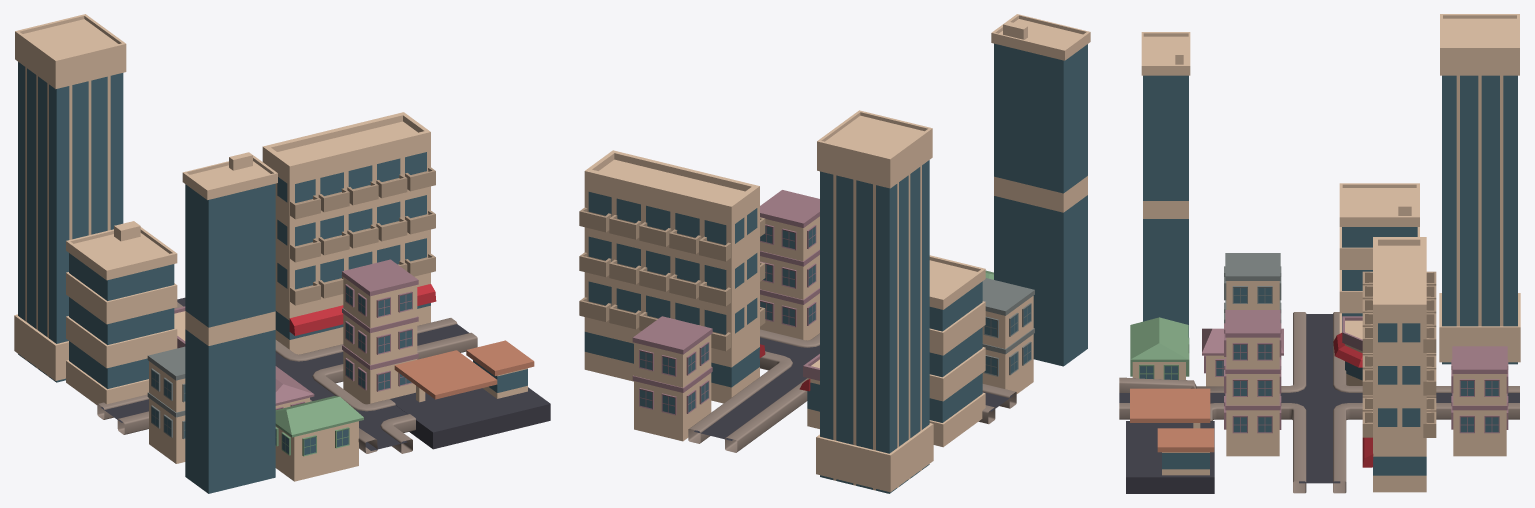
Rendered from city block.glb.
3 views of the same model, side by side, from view 1: azimuth 30°, elevation 25°; view 2: azimuth 150°, elevation 25°; view 3: azimuth 270°, elevation 25° (orthographic). The views are drawn at different scales.
Parts seen in each view (by area): view 1: tall building.002, tall building.003, tall building.001, house.007, road, flat roof.008, house.004, house.019, apartment, house.008, gas station, Cube.009 (+13 smaller); view 2: tall building.003, tall building.002, house.007, tall building.001, road, house.004, house.019, apartment, bldg base, house.005, Cube.010, Cube.008 (+13 smaller); view 3: tall building.003, tall building.002, road, tall building.001, house.007, flat roof.008, apartment, gas station, conv store, house.004, 1 story.001, bldg base (+26 smaller).
Part boxes in pixels (x1,y1,x2,y2): tall building.002: (182,152,277,493); tall building.003: (15,14,126,382); tall building.001: (66,221,177,410); house.007: (262,112,430,221); road: (97,297,477,453); flat roof.008: (390,387,550,449); house.004: (275,186,430,264); house.019: (275,230,430,307); apartment: (275,273,436,354); house.008: (275,421,358,481); gas station: (394,350,497,399); Cube.009: (290,167,435,219); tall building.003: (817,110,932,493); tall building.002: (991,14,1090,366); house.007: (584,150,759,263); tall building.001: (929,255,985,447); road: (688,329,1016,452); house.004: (584,228,759,309); house.019: (584,273,759,353); apartment: (584,318,765,403); bldg base: (816,423,933,492); house.005: (634,373,711,441); Cube.010: (579,207,730,261); Cube.008: (579,252,730,306); tall building.003: (1440,14,1519,364); tall building.002: (1141,32,1190,337); road: (1119,312,1519,493); tall building.001: (1339,183,1419,333); house.007: (1373,237,1426,359); flat roof.008: (1126,421,1214,493); apartment: (1362,437,1426,492); gas station: (1130,388,1210,422); conv store: (1157,428,1214,475); house.004: (1373,353,1426,401); 1 story.001: (1130,317,1188,361); bldg base: (1439,293,1520,362).
Size of the model in its own units: 60 by 53 by 60.09.
